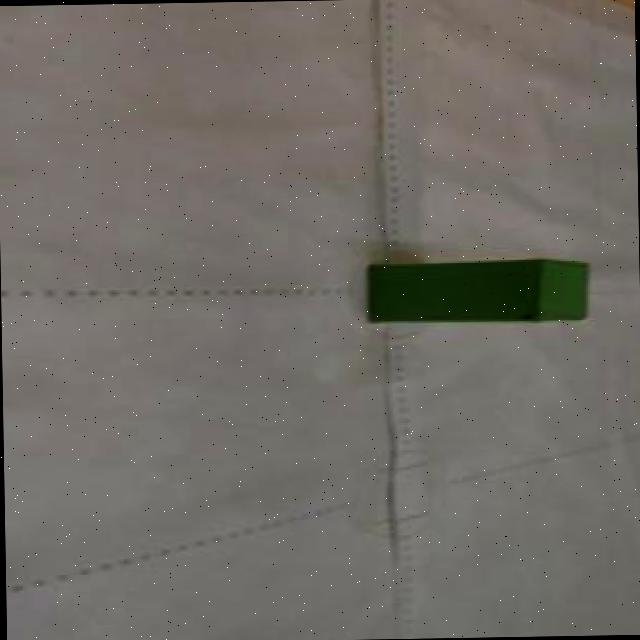greenbox: (364, 259, 589, 325)
